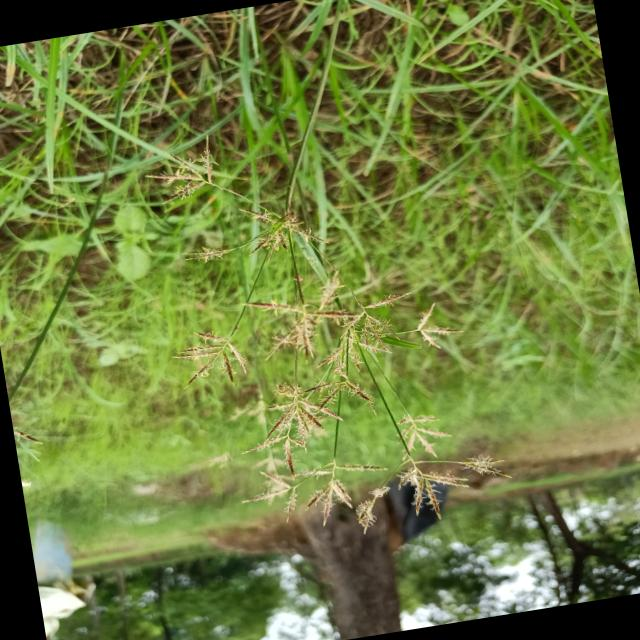cyperus: (142, 100, 520, 560), (168, 243, 516, 558)
